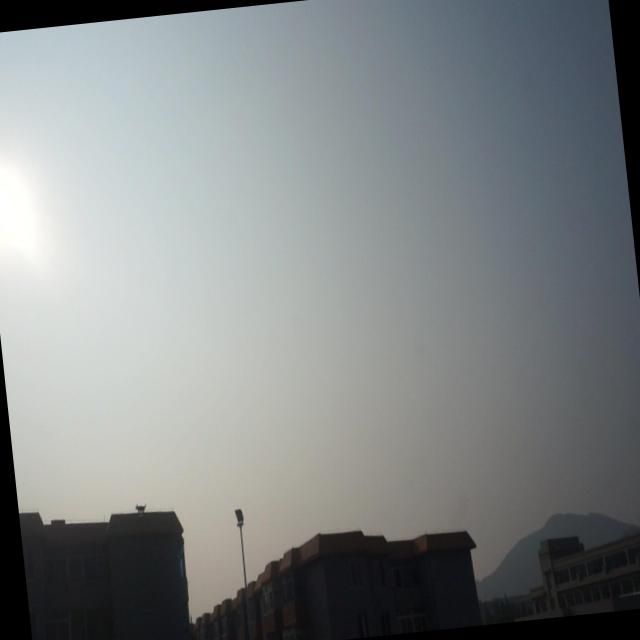drone: (132, 501, 150, 518)
